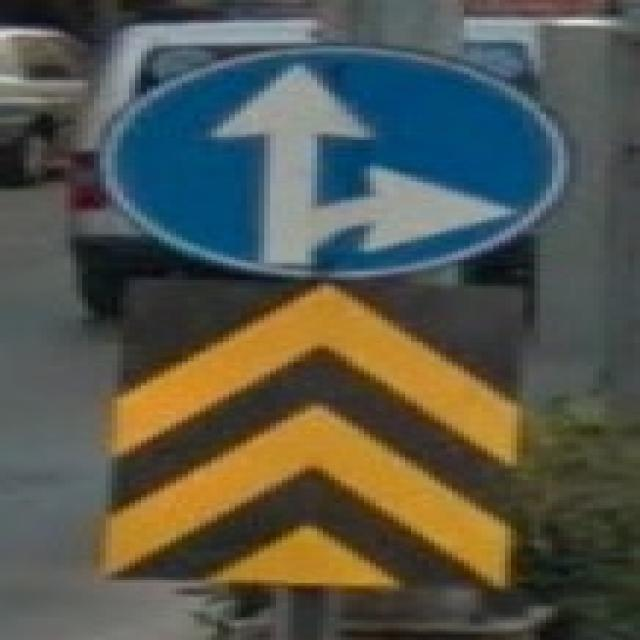Straight or Right: (104, 53, 562, 276)
